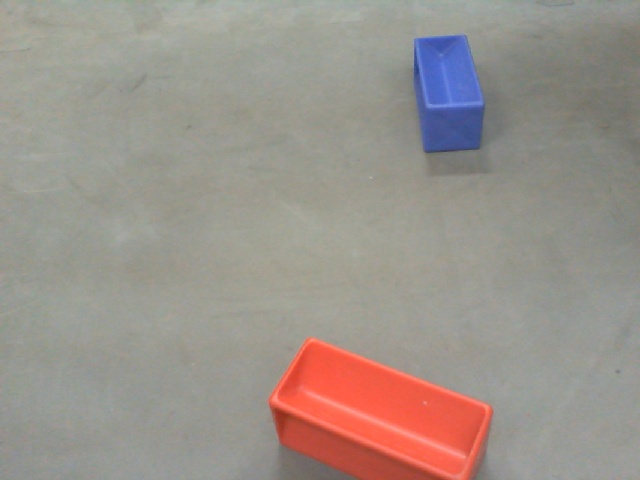BlueSample: (409, 34, 485, 157)
RedSample: (267, 329, 496, 480)
